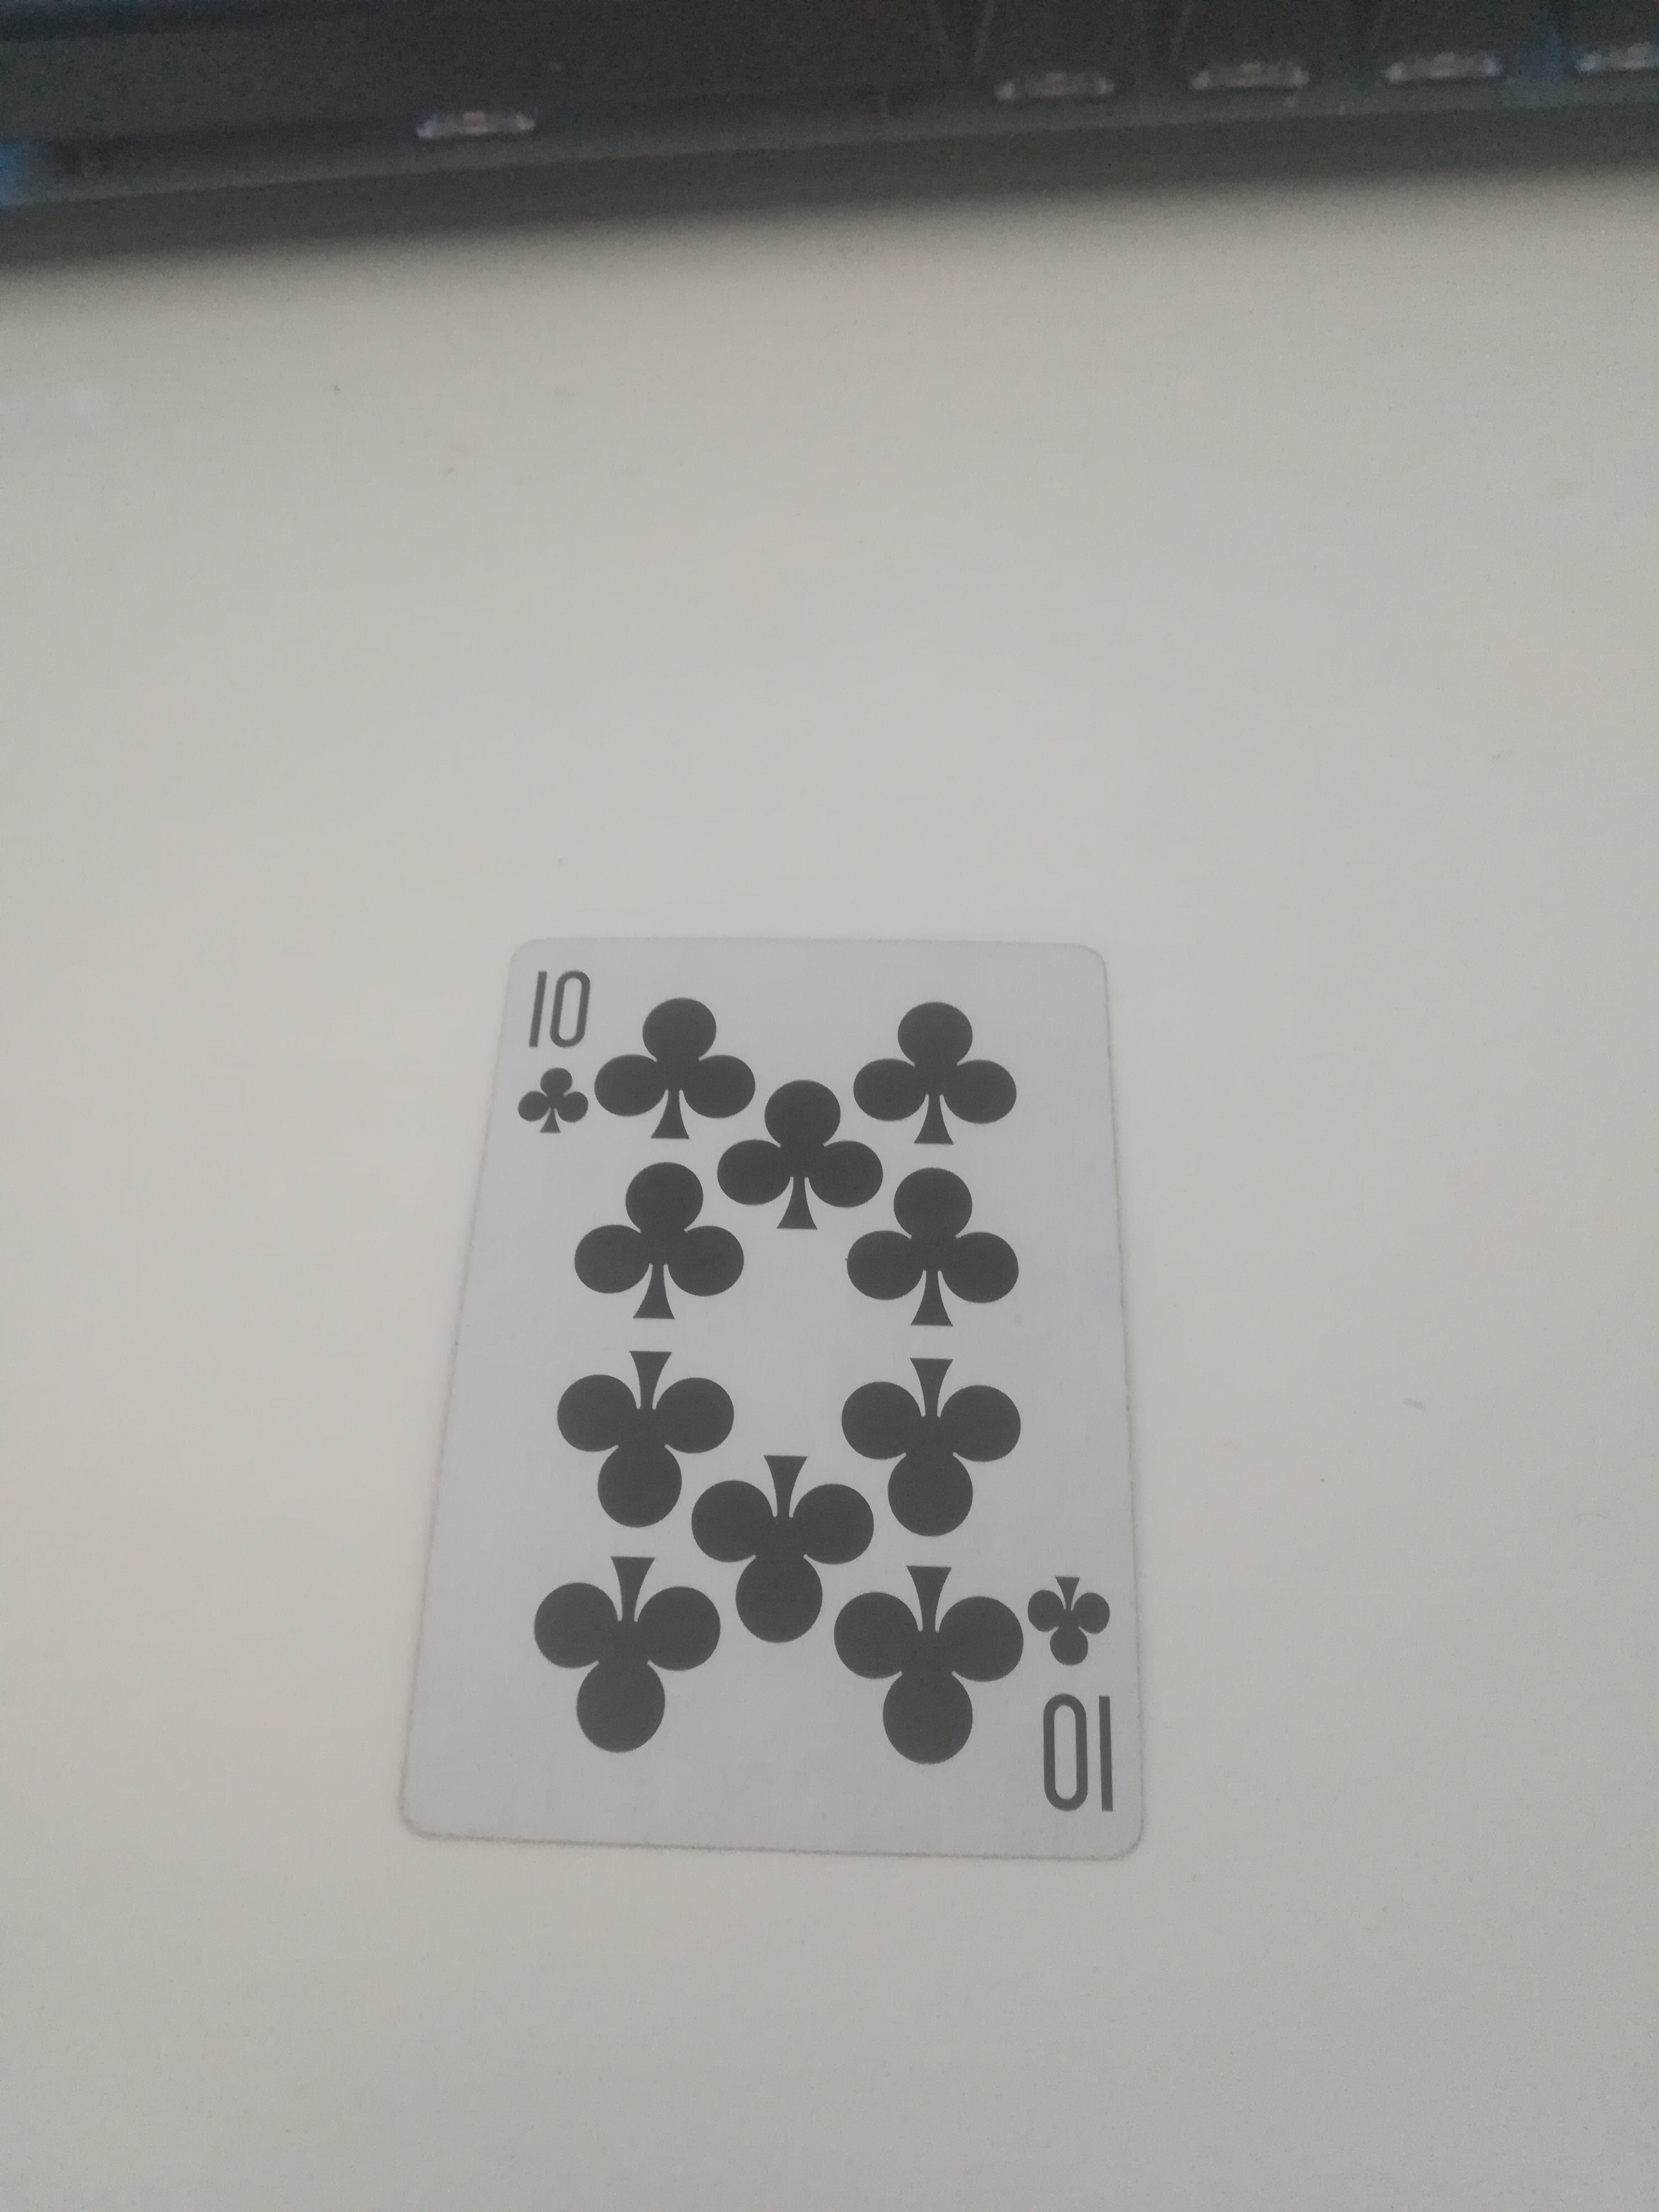10C: (418, 928, 1154, 1871)
